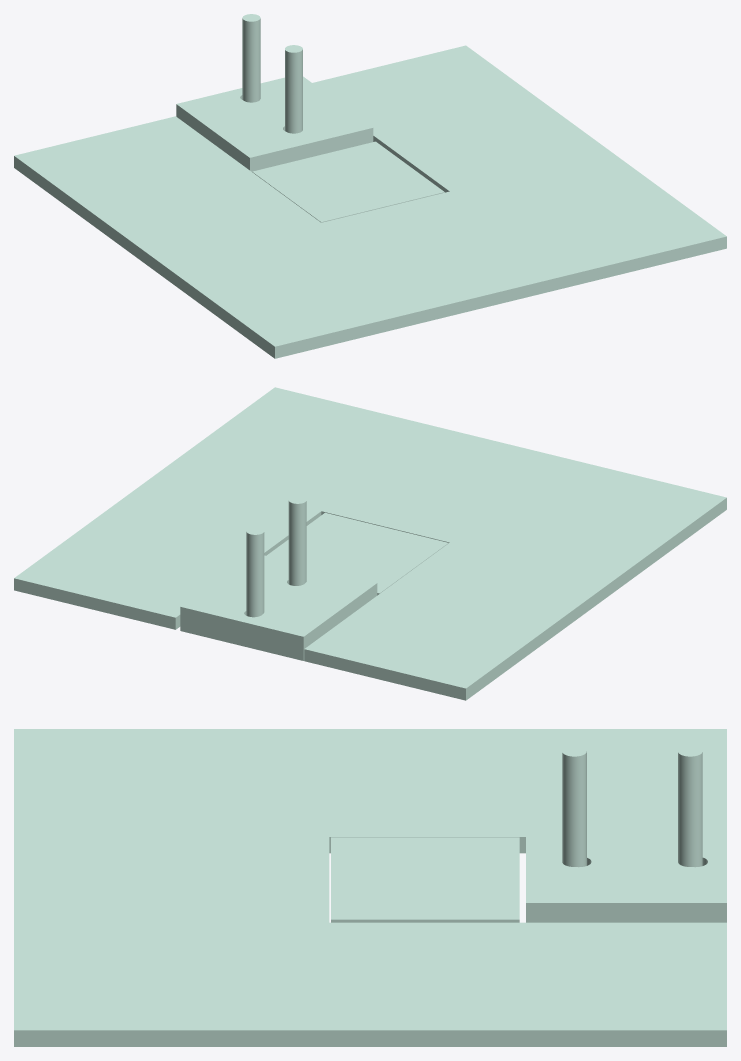
3 renders of one model, top to bottom at view 1: azimuth 30°, elevation 25°; view 2: azimuth 150°, elevation 25°; view 3: azimuth 270°, elevation 25°, orthographic. The views are drawn at different scales.
Parts seen in each view (by area): view 1: Renderer Node; view 2: Renderer Node; view 3: Renderer Node.
Boxes of the visible parts, x1,y1,x2,y2 form: Renderer Node: (14,14,726,358); Renderer Node: (14,387,726,700); Renderer Node: (14,729,726,1046).
Size of the model in its own units: 0.9141 by 0.2031 by 0.9141.
